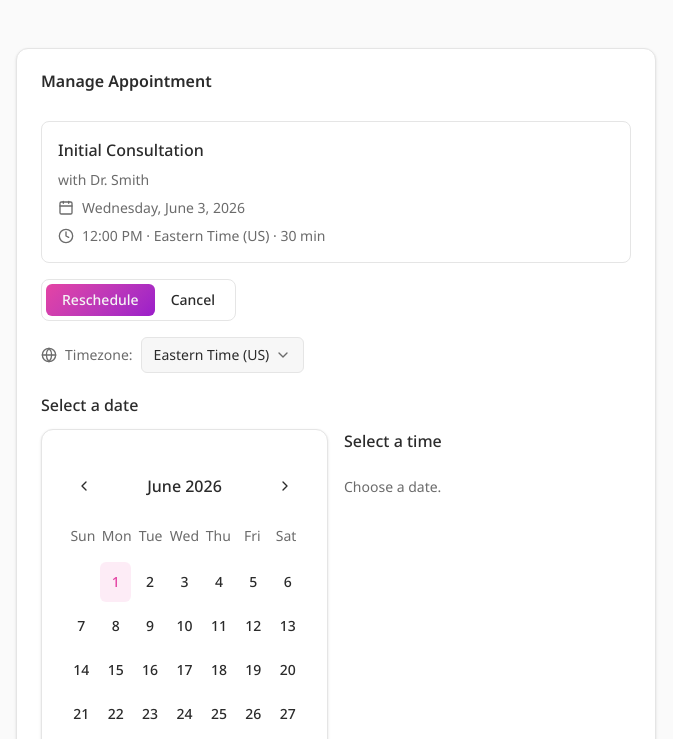
Scenario: Self-service manage appointment page › allows weekend dates and ignores a late response for a different date
This screenshot has width=673, height=739.
Expected: the text "Manage Appointment" is shown, [41, 70, 212, 92]
Click the button "4".
click(219, 582)  # box [204, 562, 234, 602]
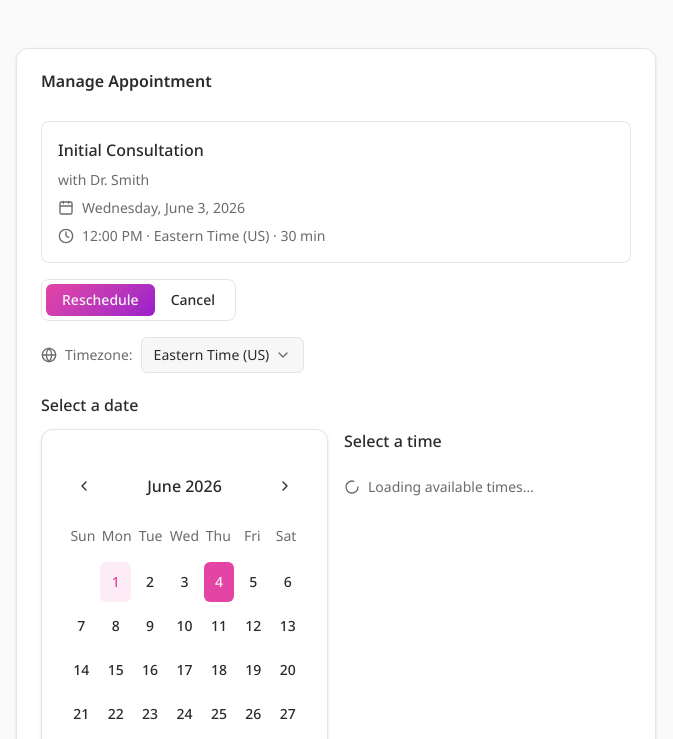
Click the button "6".
click(288, 582)  # box [273, 562, 303, 602]
(page scrolled)
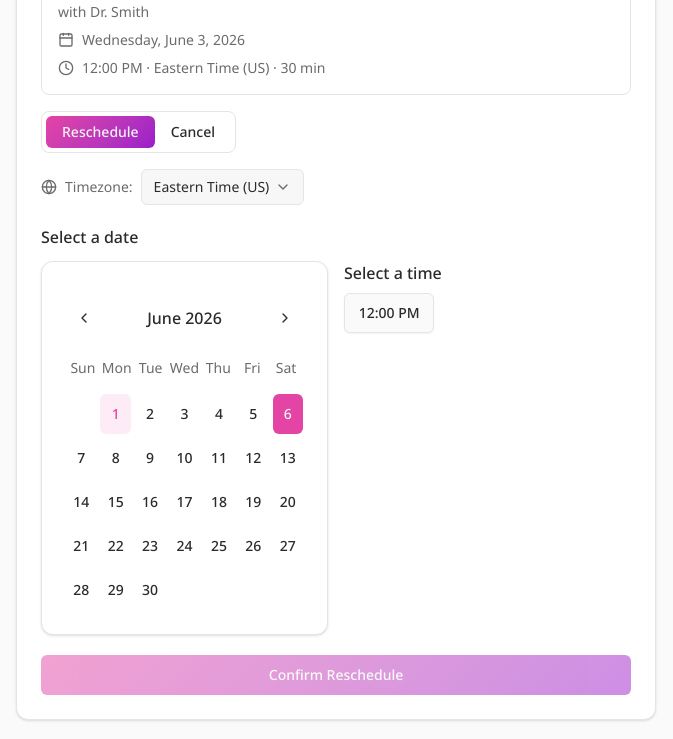
Expected: the button "Confirm Reschedule" is disabled, [41, 655, 631, 695]
Result: the button "12:00 PM" is shown at [344, 293, 434, 333]
